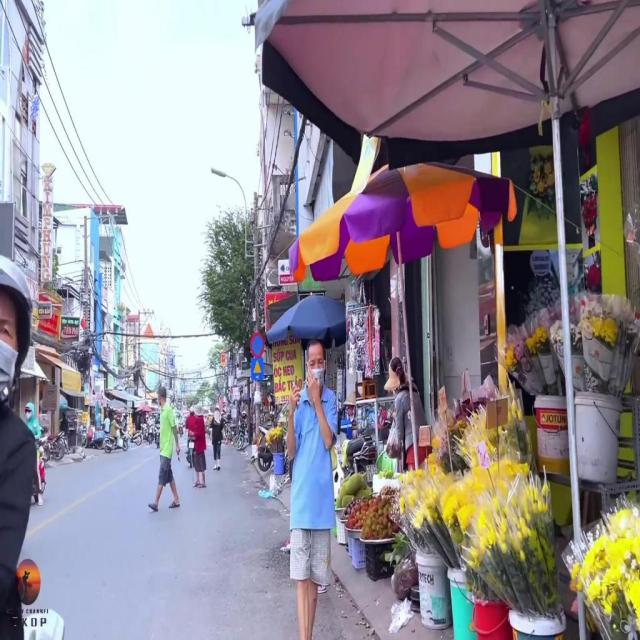cam_do_xe: (250, 331, 266, 358)
cho: (250, 359, 264, 381)
